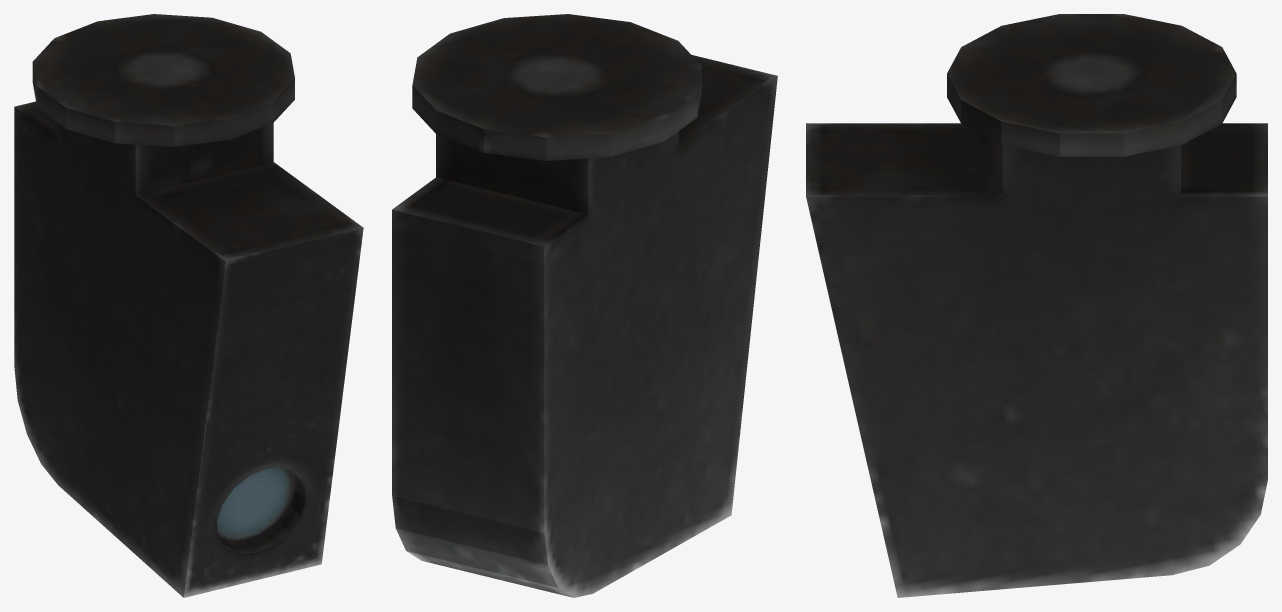
3 views of the same model, side by side, from view 1: azimuth 30°, elevation 25°; view 2: azimuth 150°, elevation 25°; view 3: azimuth 270°, elevation 25° (orthographic). The views are drawn at different scales.
Parts seen in each view (by area): view 1: TW_60228a850ddce744014caf69_PZ_Import; view 2: TW_60228a850ddce744014caf69_PZ_Import; view 3: TW_60228a850ddce744014caf69_PZ_Import.
Boxes of the visible parts, left/top/right/bottom form: TW_60228a850ddce744014caf69_PZ_Import: left=14, top=14, right=363, bottom=597; TW_60228a850ddce744014caf69_PZ_Import: left=392, top=14, right=777, bottom=597; TW_60228a850ddce744014caf69_PZ_Import: left=806, top=14, right=1267, bottom=597.
Size of the model in its own units: 0.00385 by 0.00629 by 0.00733.
Materials: 1 (1 with a texture image).
